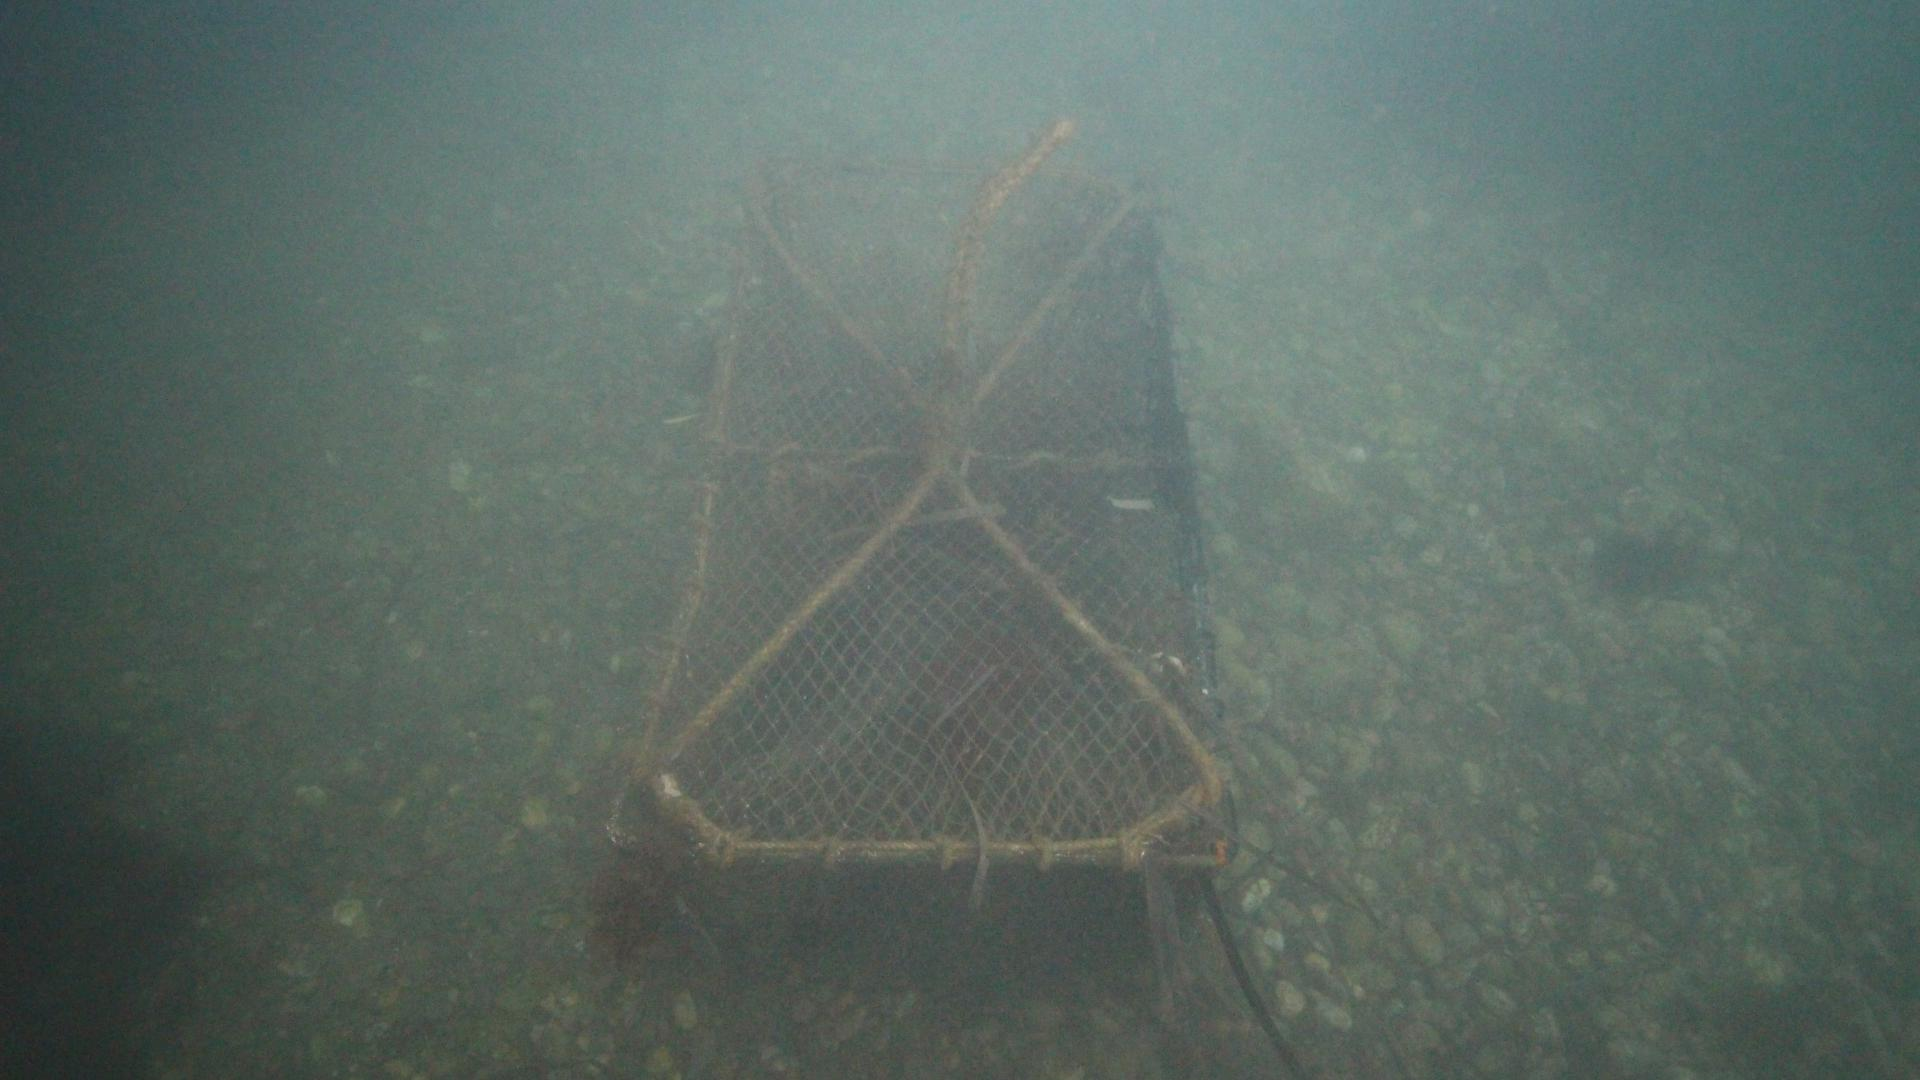rectangular fish trap: (626, 160, 1240, 961)
